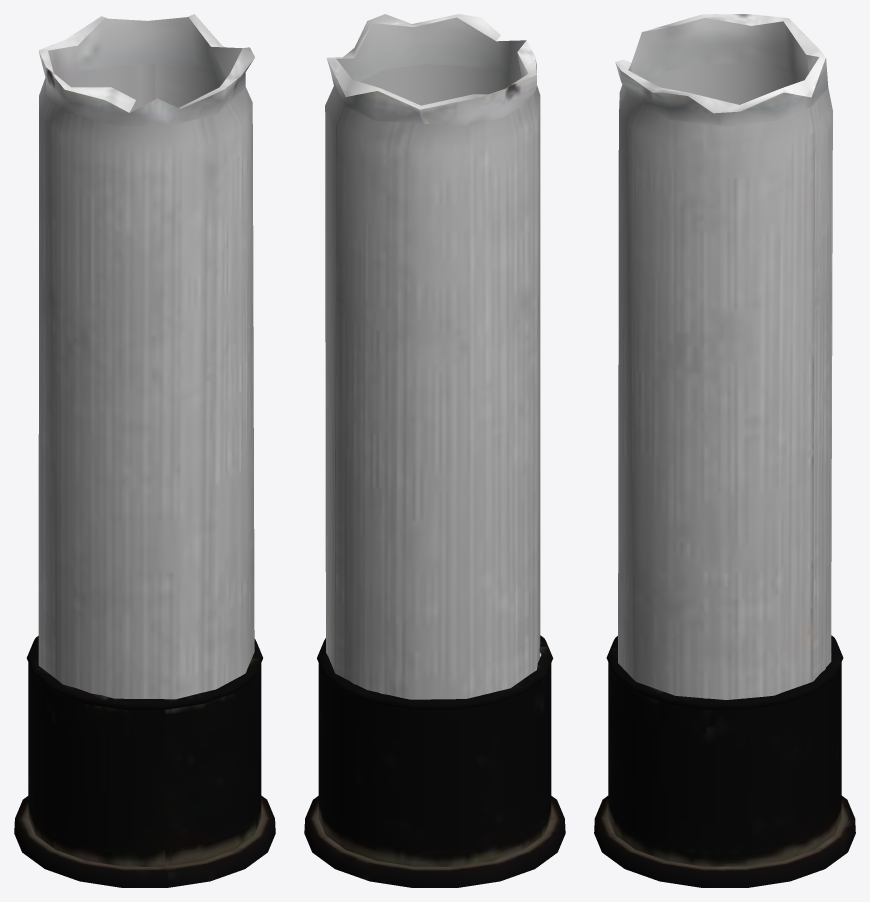
File: shotgun_shell_slug_spent.glb
The picture shows the model from 3 angles, left to right: view 1: azimuth 30°, elevation 25°; view 2: azimuth 150°, elevation 25°; view 3: azimuth 270°, elevation 25°; orthographic projection.
Parts seen in each view (by area): view 1: shotgun_shell_slug_spent; view 2: shotgun_shell_slug_spent; view 3: shotgun_shell_slug_spent.
Boxes of the visible parts, box(x1,y1,x2,y2) form: shotgun_shell_slug_spent: box(14, 14, 275, 887); shotgun_shell_slug_spent: box(304, 14, 565, 887); shotgun_shell_slug_spent: box(594, 14, 855, 887).
Size of the model in its own units: 0.0226 by 0.0761 by 0.023.
Materials: 1 (1 with a texture image).
